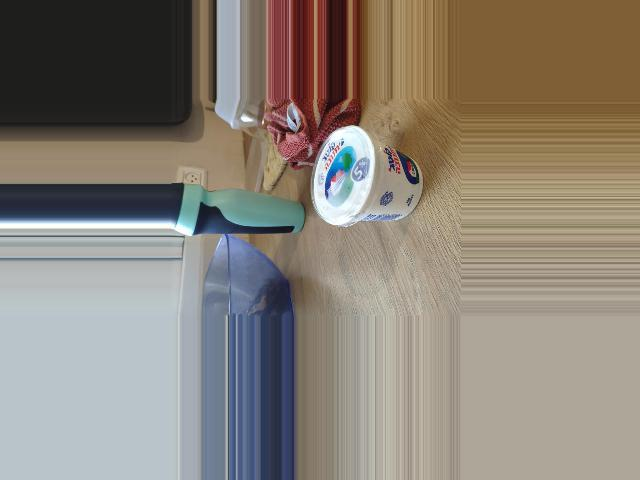cotage: (303, 141, 428, 231)
